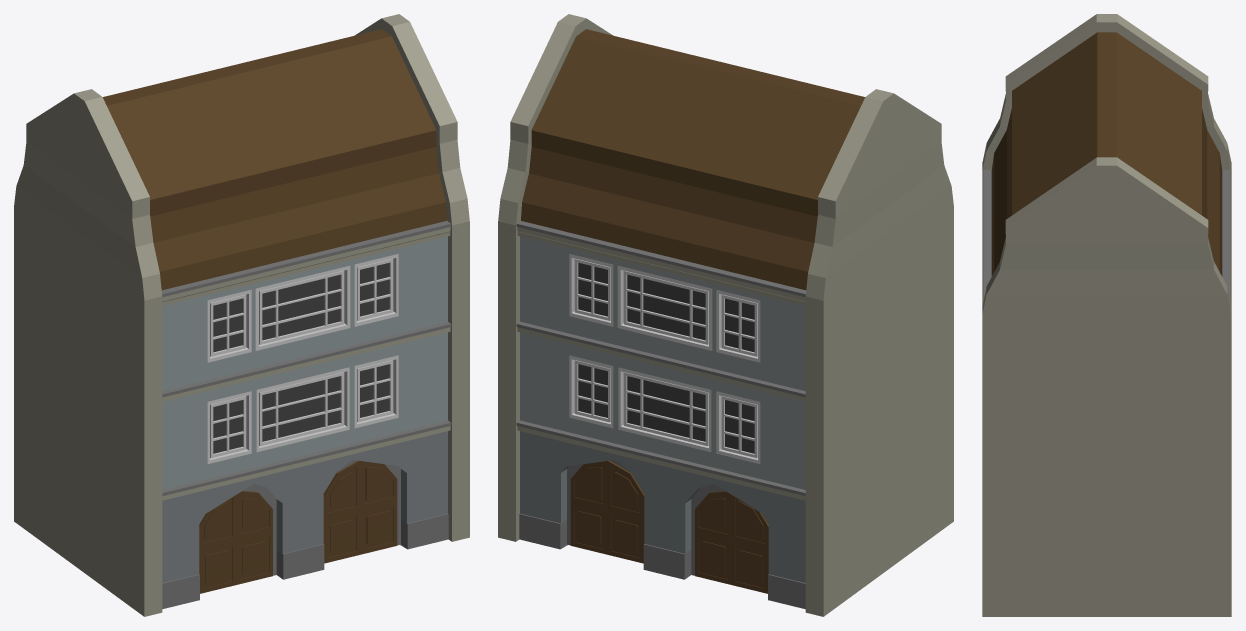
Rendered from Building2_Small.glb.
3 renders of one model, left to right at view 1: azimuth 30°, elevation 25°; view 2: azimuth 150°, elevation 25°; view 3: azimuth 270°, elevation 25°, orthographic. The views are drawn at different scales.
Parts seen in each view (by area): view 1: Building2_Small; view 2: Building2_Small; view 3: Building2_Small.
Part boxes in pixels (left/top/right/bottom): Building2_Small: left=14, top=14, right=469, bottom=616; Building2_Small: left=498, top=14, right=953, bottom=616; Building2_Small: left=982, top=14, right=1231, bottom=616.
Size of the model in its own units: 3.58 by 4.97 by 2.49.
